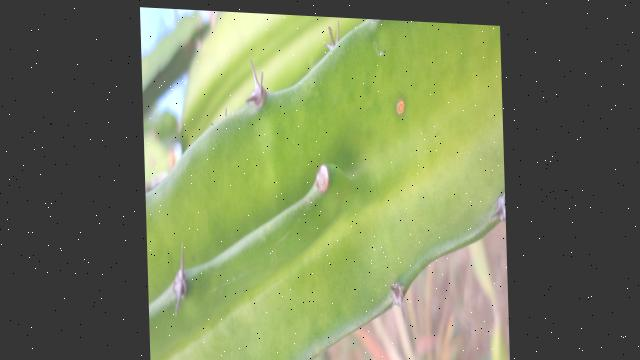stemcanker: (389, 92, 413, 122)
